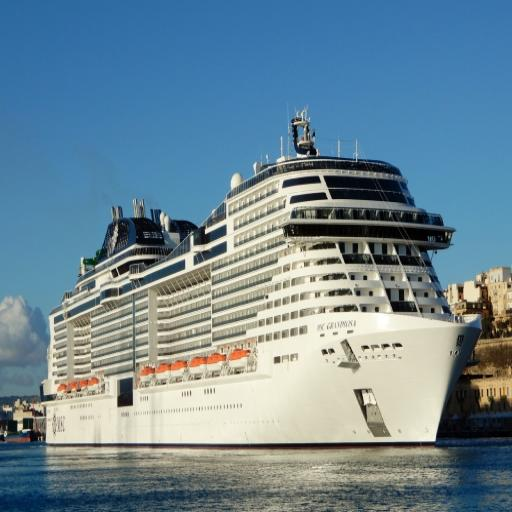cruises: (41, 109, 487, 456)
